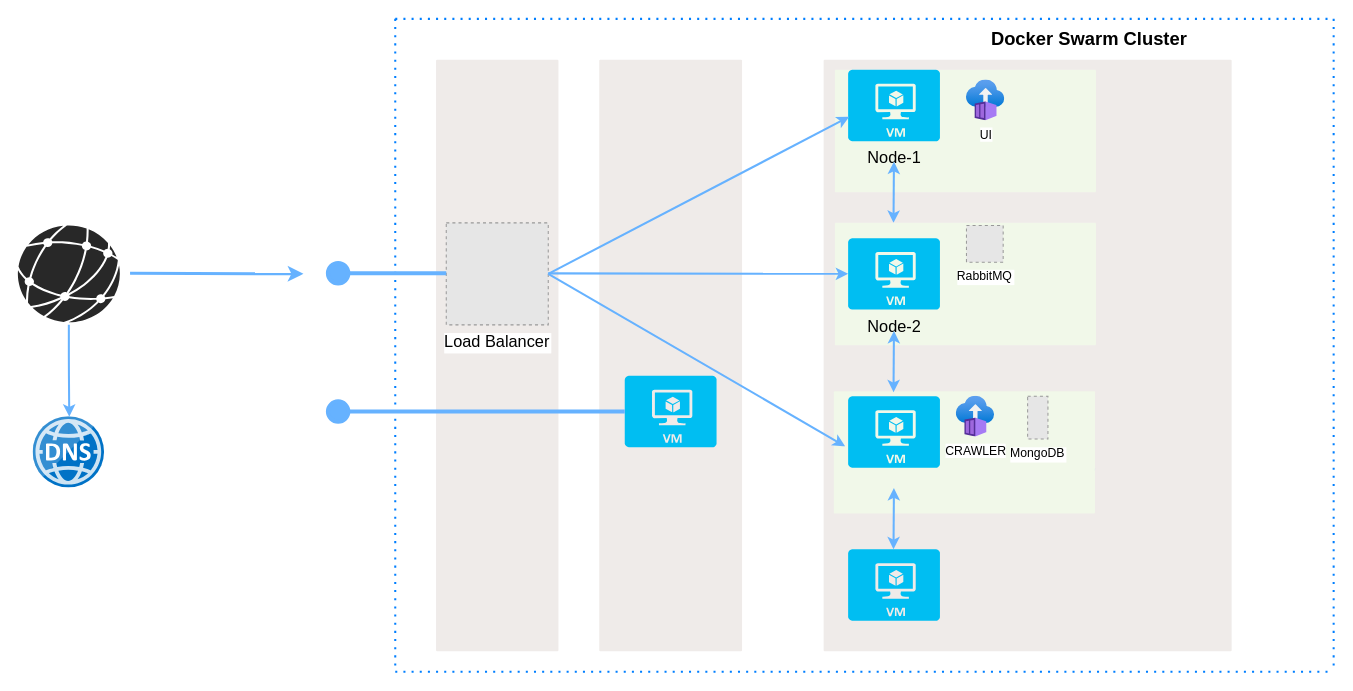
Image size: 1353x691. Some labels were removed from this diagram. Grey dashed boxes stand in for pictures. The shapes that lost their labels are listed below. From the top down, each one's centre as x and y in pixels, then its label:
At point (670, 411): "Bastion (Jumpbox)".
At point (893, 431): "Node-3".
At point (893, 584): "Master-1".
